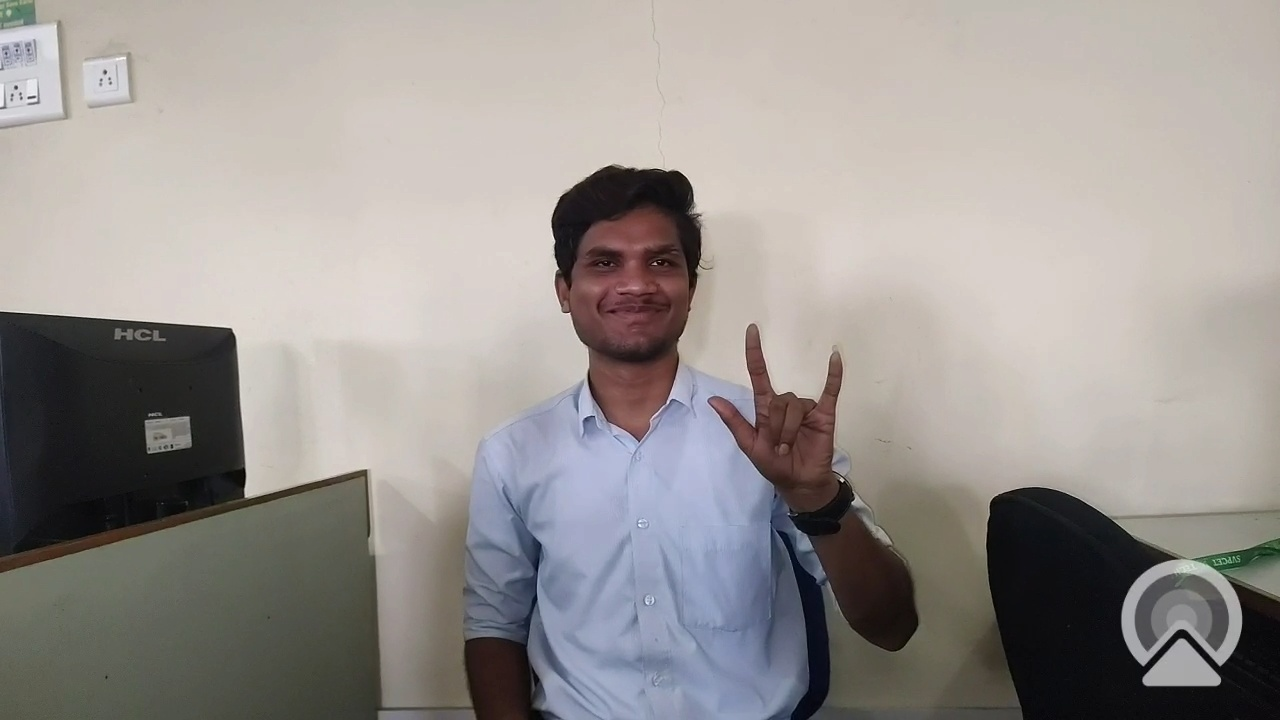I love you: (700, 315, 863, 535)
